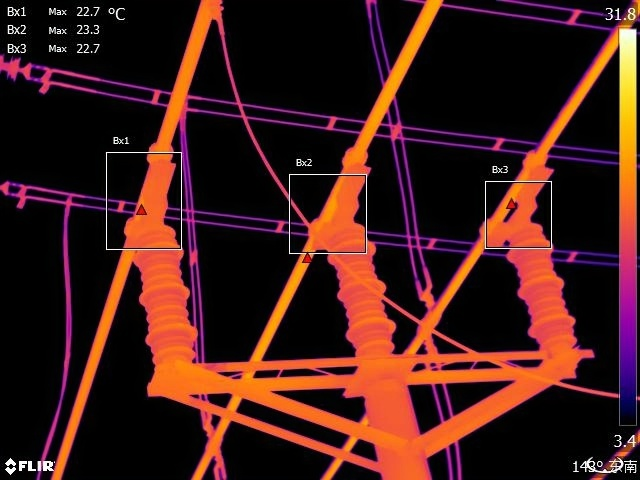clamp: (58, 183, 84, 212)
post insulator: (133, 226, 208, 365), (508, 224, 585, 353), (328, 223, 402, 357)
